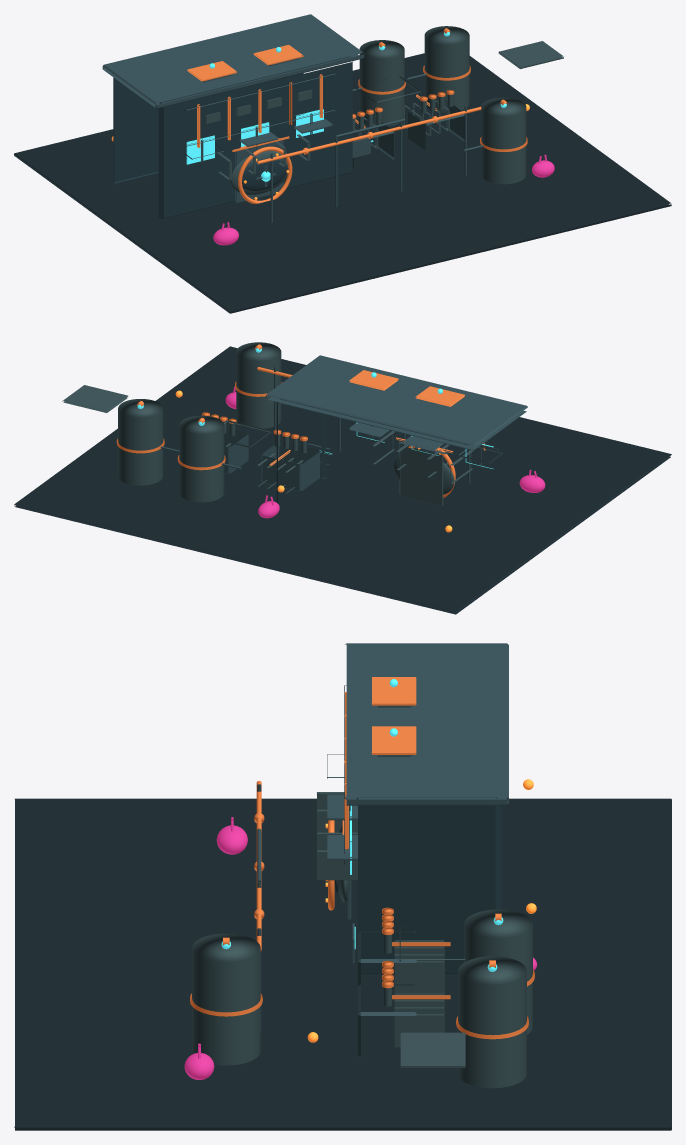
Rendered from west_grid.gltf.
3 views of the same model, one above another, from view 1: azimuth 30°, elevation 25°; view 2: azimuth 150°, elevation 25°; view 3: azimuth 270°, elevation 25° (orthographic). The views are drawn at different scales.
Visible parts, largest first — view 1: WestGridFloor, WestGridTurbineHall, WestGridRoofCap, WestGridPressureTank2, WestGridPressureTank0, WestGridPressureTank1, WestGridTransformerCap1, WestGridTransformer1, WestGridTurbineAccessFace, WestGridTurbineAccessRing, WestGridWindow0, WestGridTurbineAccessHousing (+4 smaller); view 2: WestGridFloor, WestGridRoofCap, WestGridPressureTank0, WestGridPressureTank1, WestGridPressureTank2, WestGridHallServiceDoor, WestGridTransformer0, WestGridTurbineHall, WestGridTransformerCap1, WestGridTransformer1, WestGridRoofServiceVentCap1, WestGridRoofServiceVentCap0; view 3: WestGridFloor, WestGridRoofCap, WestGridTurbineHall, WestGridPressureTank2, WestGridPressureTank1, WestGridPressureTank0, WestGridTransformerCap1, WestGridTransformerFin0_3, WestGridRoofServiceVentCap0, WestGridRoofServiceVentCap1, WestGridTransformerFin1_3, WestGridHallLouver3 (+1 smaller).
Boxes of the visible parts, x1,y1,x2,y2 form: WestGridFloor: [14, 53, 671, 313]; WestGridTurbineHall: [113, 56, 352, 218]; WestGridRoofCap: [102, 14, 364, 108]; WestGridPressureTank2: [481, 97, 526, 184]; WestGridPressureTank0: [359, 40, 404, 126]; WestGridPressureTank1: [424, 26, 469, 112]; WestGridTransformerCap1: [498, 41, 563, 68]; WestGridTransformer1: [408, 100, 464, 150]; WestGridTurbineAccessFace: [242, 158, 287, 190]; WestGridTurbineAccessRing: [238, 146, 292, 203]; WestGridWindow0: [186, 135, 214, 164]; WestGridTurbineAccessHousing: [230, 150, 288, 194]; WestGridFloor: [14, 346, 671, 614]; WestGridRoofCap: [266, 355, 527, 449]; WestGridPressureTank0: [179, 415, 224, 502]; WestGridPressureTank1: [118, 399, 163, 485]; WestGridPressureTank2: [236, 342, 281, 428]; WestGridHallServiceDoor: [400, 446, 443, 505]; WestGridTransformer0: [261, 440, 319, 491]; WestGridTurbineHall: [276, 399, 469, 503]; WestGridTransformerCap1: [62, 385, 128, 412]; WestGridTransformer1: [224, 427, 248, 474]; WestGridRoofServiceVentCap1: [349, 370, 398, 390]; WestGridRoofServiceVentCap0: [415, 386, 464, 406]; WestGridFloor: [14, 798, 671, 1130]; WestGridRoofCap: [345, 643, 508, 805]; WestGridTurbineHall: [356, 797, 501, 973]; WestGridPressureTank2: [192, 933, 260, 1065]; WestGridPressureTank1: [458, 956, 526, 1088]; WestGridPressureTank0: [464, 909, 532, 1034]; WestGridTransformerCap1: [400, 1032, 465, 1068]; WestGridTransformerFin0_3: [394, 961, 444, 993]; WestGridRoofServiceVentCap0: [371, 677, 416, 705]; WestGridRoofServiceVentCap1: [371, 726, 416, 754]; WestGridTransformerFin1_3: [394, 1014, 444, 1047]; WestGridHallLouver3: [316, 850, 357, 880].
Bounding box in the file's own units: 27.11 × 7.55 × 22.
